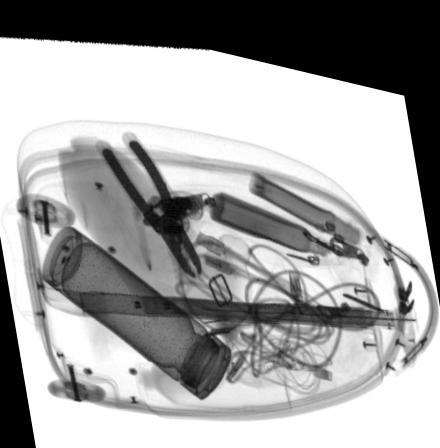Pliers: (99, 132, 199, 268)
